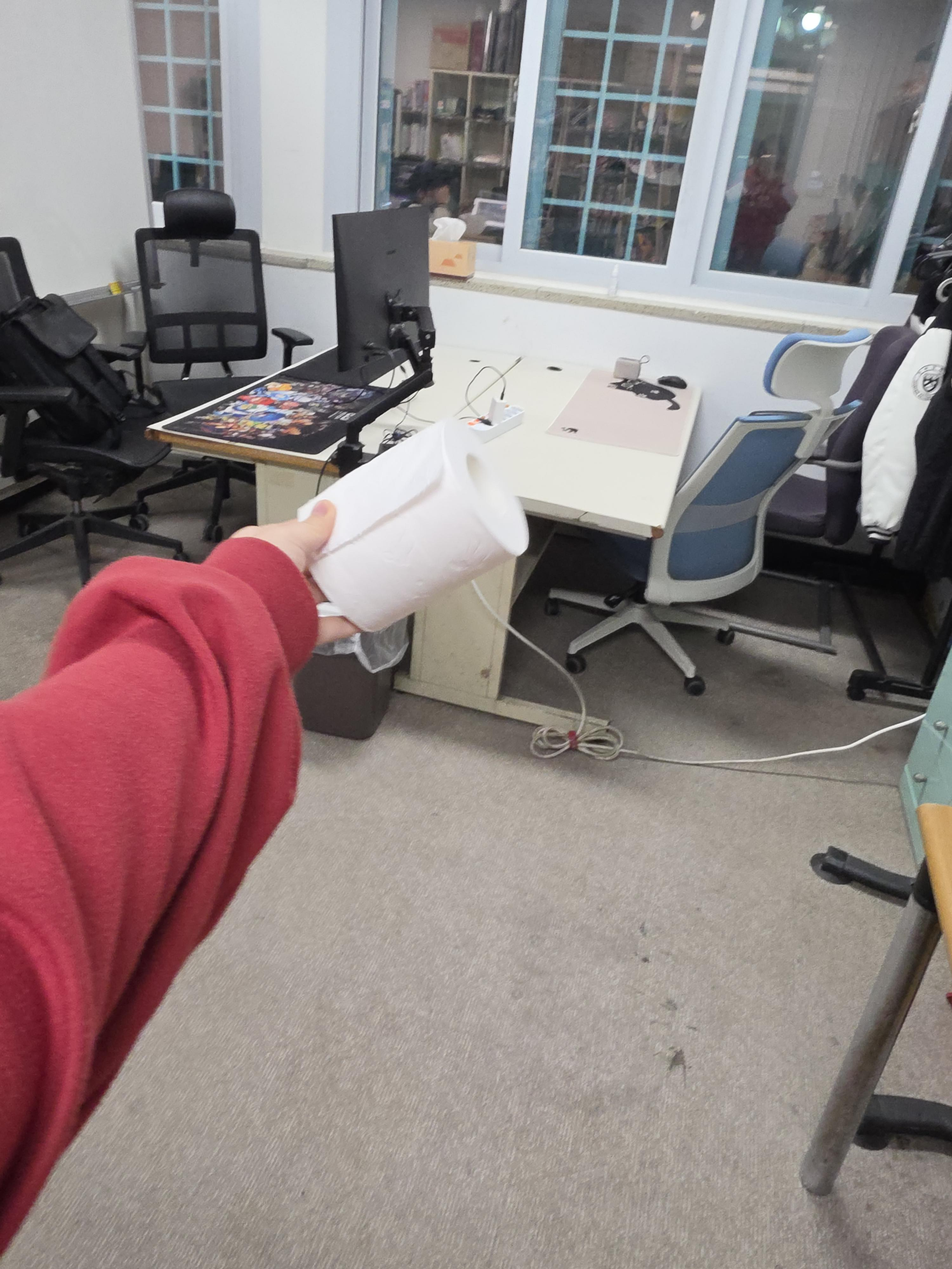tissue: (297, 418, 530, 633), (428, 216, 476, 279)
